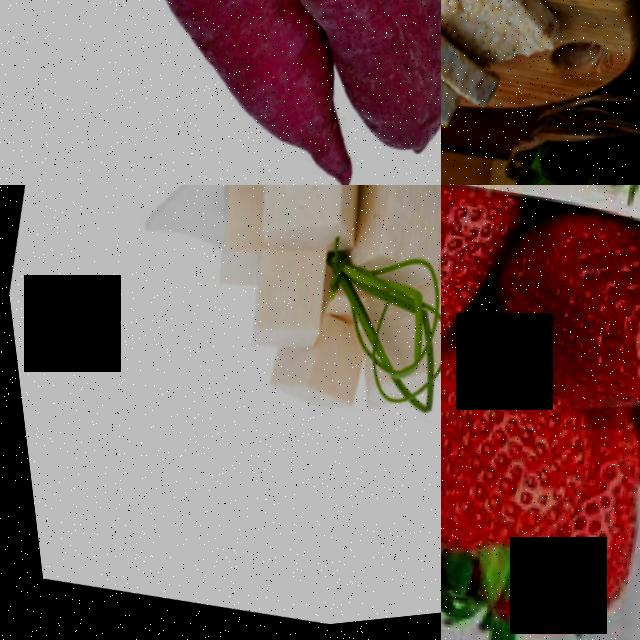strawberry: (441, 367, 595, 607), (507, 215, 640, 448), (461, 542, 629, 640), (441, 185, 530, 369)
sweet potato: (0, 0, 441, 185), (234, 0, 441, 185)
tempeh: (441, 0, 570, 87)
tofu: (229, 247, 330, 367), (251, 340, 361, 434), (236, 185, 361, 267), (338, 185, 441, 284), (194, 185, 268, 298)
